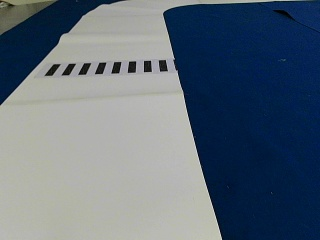crosswalk: (44, 59, 164, 76)
